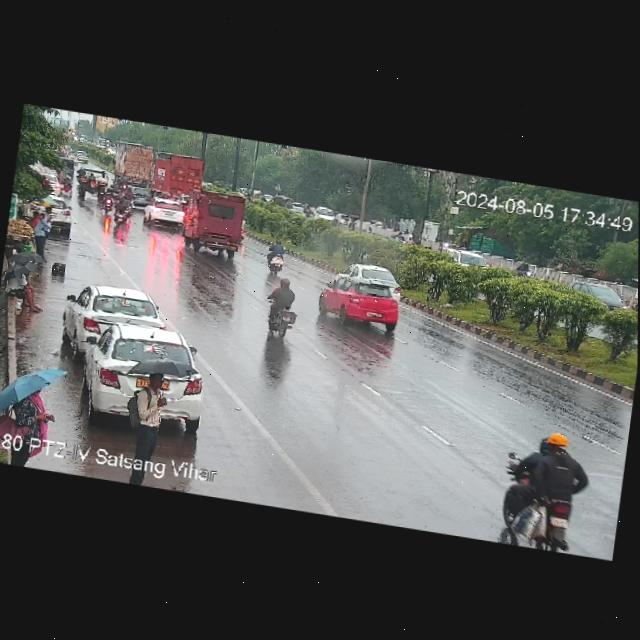car: (81, 318, 207, 405), (62, 279, 164, 355), (316, 271, 402, 335), (332, 257, 405, 306), (19, 188, 77, 236), (566, 273, 633, 310), (142, 195, 190, 235), (76, 150, 89, 164)
motorcycle: (494, 429, 598, 538), (261, 271, 304, 341), (262, 239, 287, 276), (113, 196, 129, 227), (121, 187, 135, 219), (98, 186, 114, 212), (514, 260, 534, 278)
person: (117, 349, 200, 458), (0, 358, 68, 438), (0, 250, 47, 315), (26, 209, 55, 256)
truck: (177, 185, 248, 260), (151, 149, 205, 204), (112, 136, 156, 193)
